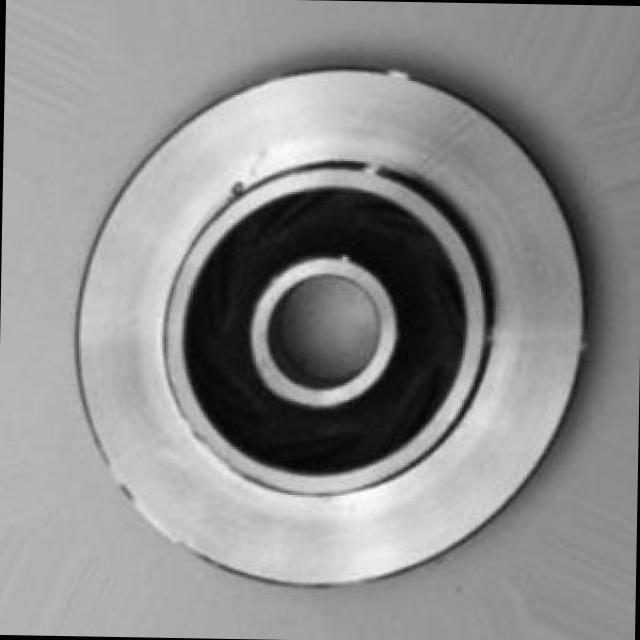Defect: (233, 176, 252, 202)
